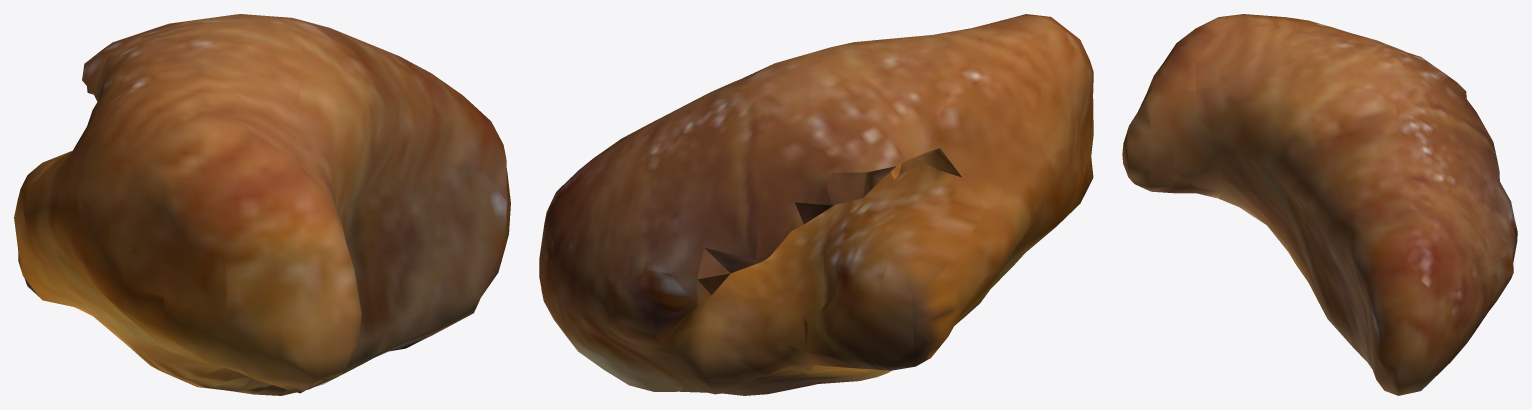
The model's file is media_luna_360.glb.
3 views of the same model, side by side, from view 1: azimuth 30°, elevation 25°; view 2: azimuth 150°, elevation 25°; view 3: azimuth 270°, elevation 25° (orthographic). The views are drawn at different scales.
Visible parts, largest first — view 1: mesh_main_0; view 2: mesh_main_0; view 3: mesh_main_0.
Part boxes in pixels (left/top/right/bottom): mesh_main_0: left=14, top=14, right=510, bottom=395; mesh_main_0: left=539, top=14, right=1093, bottom=395; mesh_main_0: left=1122, top=14, right=1517, bottom=395.
Bounding box in the file's own units: 0.0876 × 0.0657 × 0.0878.
1 material, 1 textured.
